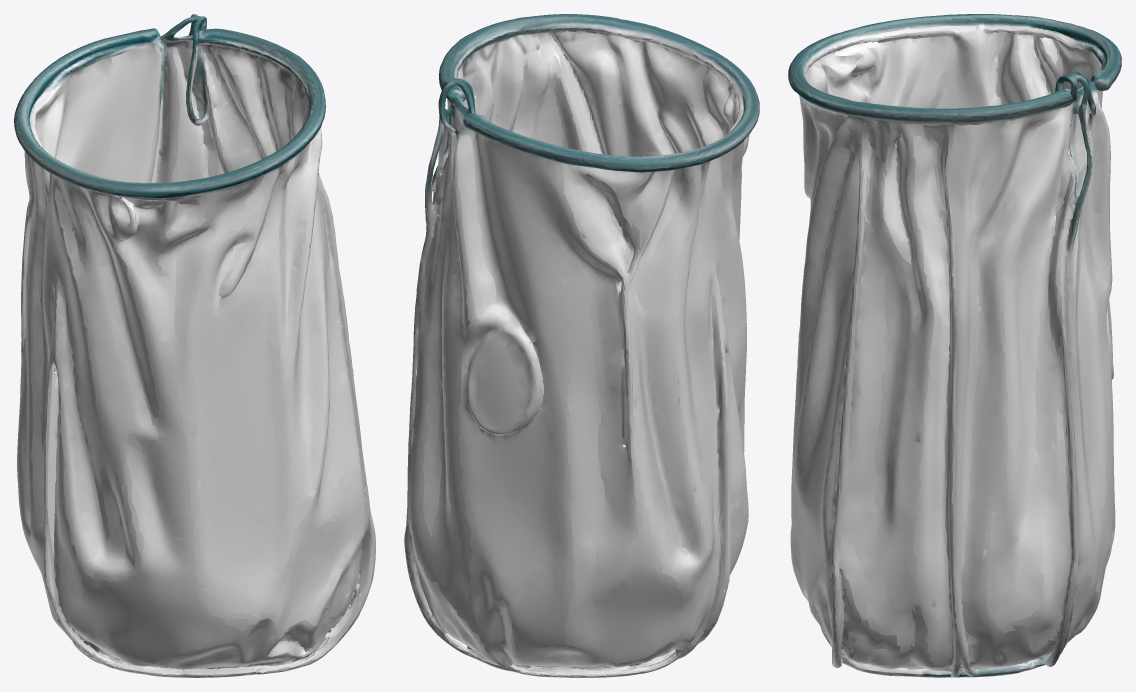
The model's file is specimen-bag.glb.
The picture shows the model from 3 angles, left to right: view 1: azimuth 30°, elevation 25°; view 2: azimuth 150°, elevation 25°; view 3: azimuth 270°, elevation 25°; orthographic projection. The views are drawn at different scales.
Parts seen in each view (by area): view 1: Lux3D_specimen_bag_0; view 2: Lux3D_specimen_bag_0; view 3: Lux3D_specimen_bag_0.
Part boxes in pixels (box(x1,y1,x2,y2)): Lux3D_specimen_bag_0: box(14, 14, 375, 677); Lux3D_specimen_bag_0: box(404, 14, 759, 677); Lux3D_specimen_bag_0: box(788, 14, 1121, 677).
Bounding box in the file's own units: 0.785 × 1.5 × 0.7649.
1 material, 1 textured.
